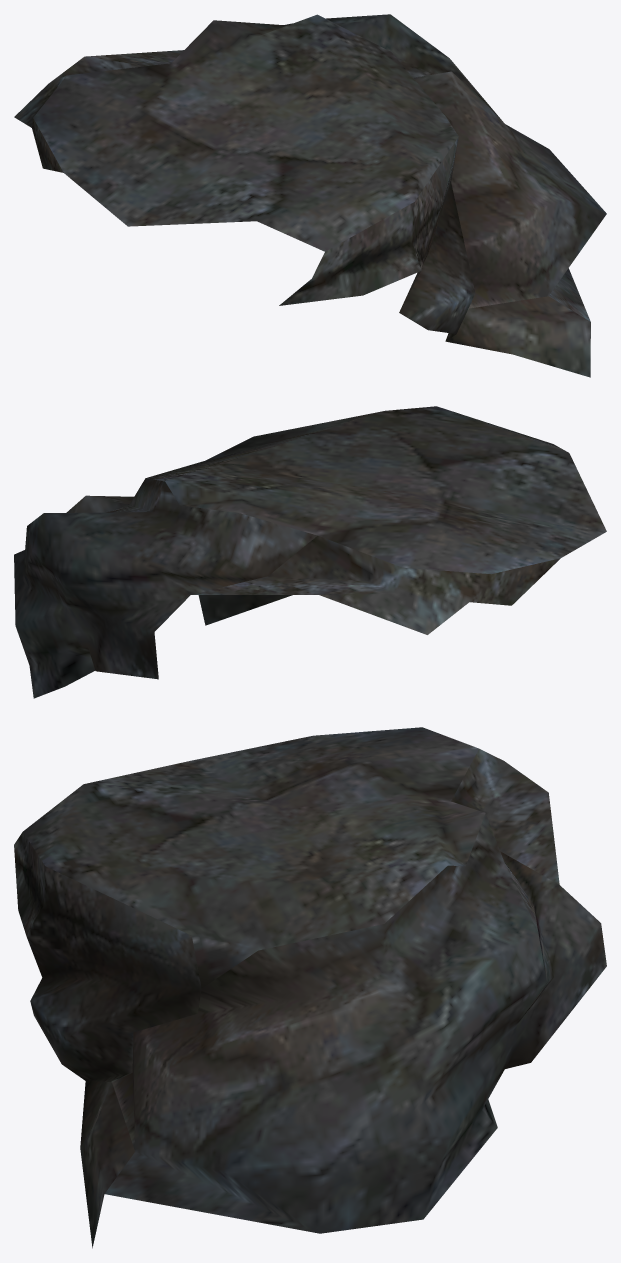
The model's file is S_Rock_Yellow036_H16.FBX.
3 views of the same model, one above another, from view 1: azimuth 30°, elevation 25°; view 2: azimuth 150°, elevation 25°; view 3: azimuth 270°, elevation 25° (orthographic). The views are drawn at different scales.
Visible parts, largest first — view 1: S_Rock_Yellow036_H16; view 2: S_Rock_Yellow036_H16; view 3: S_Rock_Yellow036_H16.
Part boxes in pixels (x1=…): S_Rock_Yellow036_H16: x1=14, y1=14, x2=606, y2=377; S_Rock_Yellow036_H16: x1=14, y1=406, x2=606, y2=698; S_Rock_Yellow036_H16: x1=14, y1=727, x2=606, y2=1248.
Size of the model in its own units: 913 by 810 by 485.
1 material, 1 textured.
